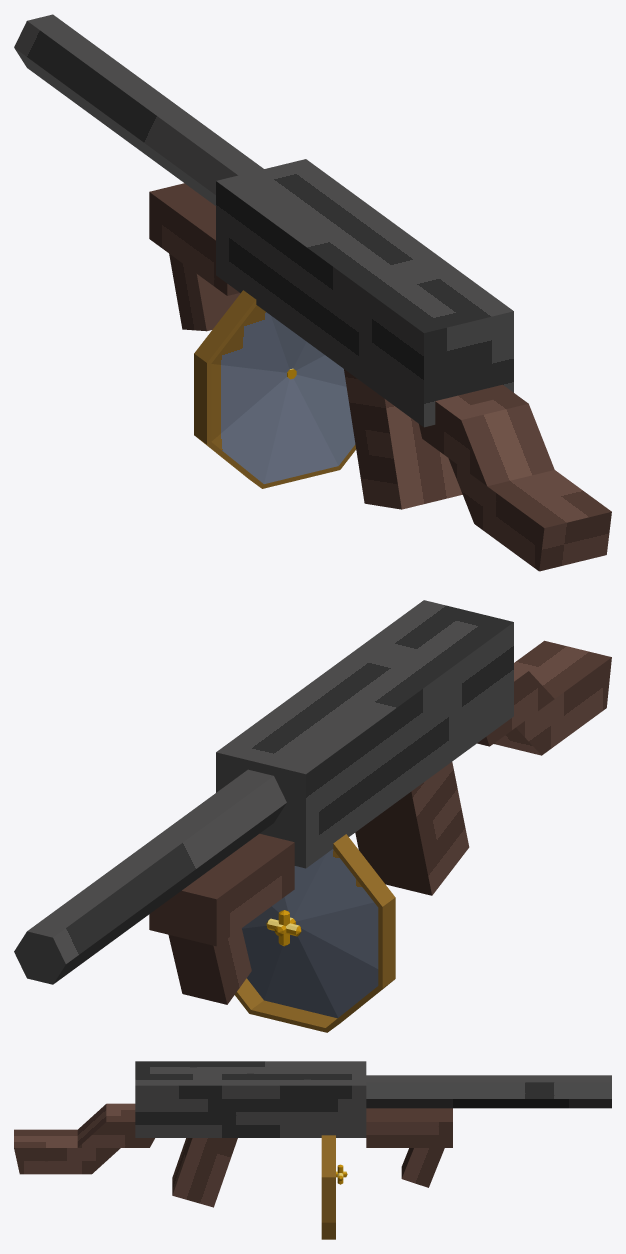
File: RouletteWheelDrumGun.gltf
3 renders of one model, top to bottom at view 1: azimuth 30°, elevation 25°; view 2: azimuth 150°, elevation 25°; view 3: azimuth 270°, elevation 25°, orthographic. The views are drawn at different scales.
Visible parts, largest first — view 1: GunBody, RoulettewheelBase, GunStockBackHandle, GunTube, GunBodyHandle, GunStock, GunStockHandle; view 2: GunBody, RoulettewheelBase, GunTube, GunStock, GunBodyHandle, GunStockBackHandle, GunStockHandle; view 3: GunBody, GunTube, GunStockBackHandle, GunStock, GunBodyHandle, RoulettewheelBase, GunStockHandle.
Part boxes in pixels (x1,y1,x2,y2): GunBody: [216, 159, 513, 427]; RoulettewheelBase: [194, 290, 356, 488]; GunStockBackHandle: [419, 384, 611, 571]; GunTube: [14, 14, 263, 205]; GunBodyHandle: [344, 369, 462, 509]; GunStock: [149, 183, 239, 295]; GunStockHandle: [169, 253, 240, 331]; GunBody: [216, 600, 513, 868]; RoulettewheelBase: [235, 834, 395, 1032]; GunTube: [14, 769, 286, 984]; GunStock: [149, 833, 294, 946]; GunBodyHandle: [355, 762, 469, 895]; GunStockBackHandle: [477, 640, 611, 755]; GunStockHandle: [168, 928, 251, 1004]; GunBody: [135, 1061, 366, 1137]; GunTube: [366, 1075, 611, 1108]; GunStockBackHandle: [14, 1103, 154, 1174]; GunStock: [366, 1108, 452, 1147]; GunBodyHandle: [172, 1138, 237, 1207]; RoulettewheelBase: [321, 1135, 335, 1239]; GunStockHandle: [401, 1148, 444, 1187].
Size of the model in its own units: 0.2615 by 0.3714 by 1.29.
Materials: 1 (1 with a texture image).
